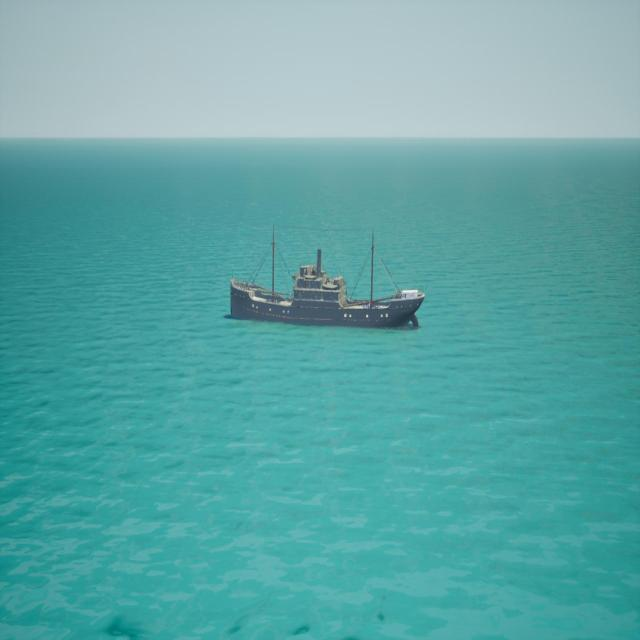fishing ship: (229, 226, 427, 329)
